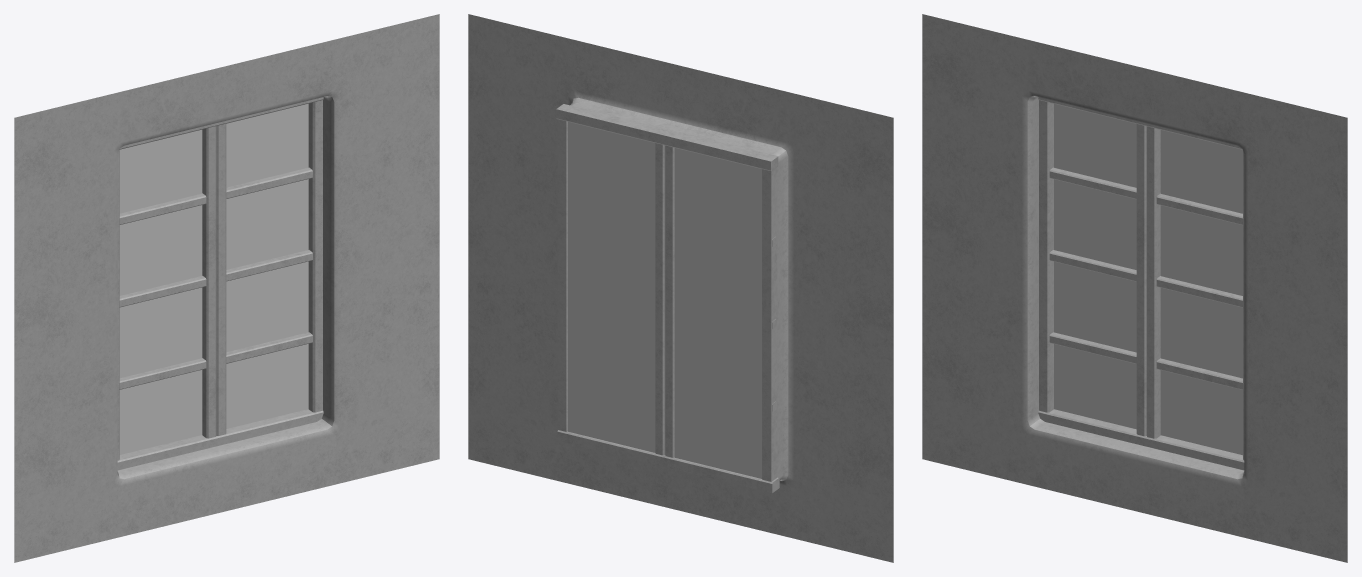
File: SM_Wall2.fbx
3 views of the same model, side by side, from view 1: azimuth 30°, elevation 25°; view 2: azimuth 150°, elevation 25°; view 3: azimuth 330°, elevation 25° (orthographic).
Visible parts, largest first — view 1: SM_Wall2_LOD0; view 2: SM_Wall2_LOD0; view 3: SM_Wall2_LOD0.
Boxes of the visible parts, <box> form: SM_Wall2_LOD0: <box>14,14,439,562</box>; SM_Wall2_LOD0: <box>468,14,893,562</box>; SM_Wall2_LOD0: <box>922,14,1347,562</box>.
Size of the model in its own units: 300 by 20.6 by 300.
